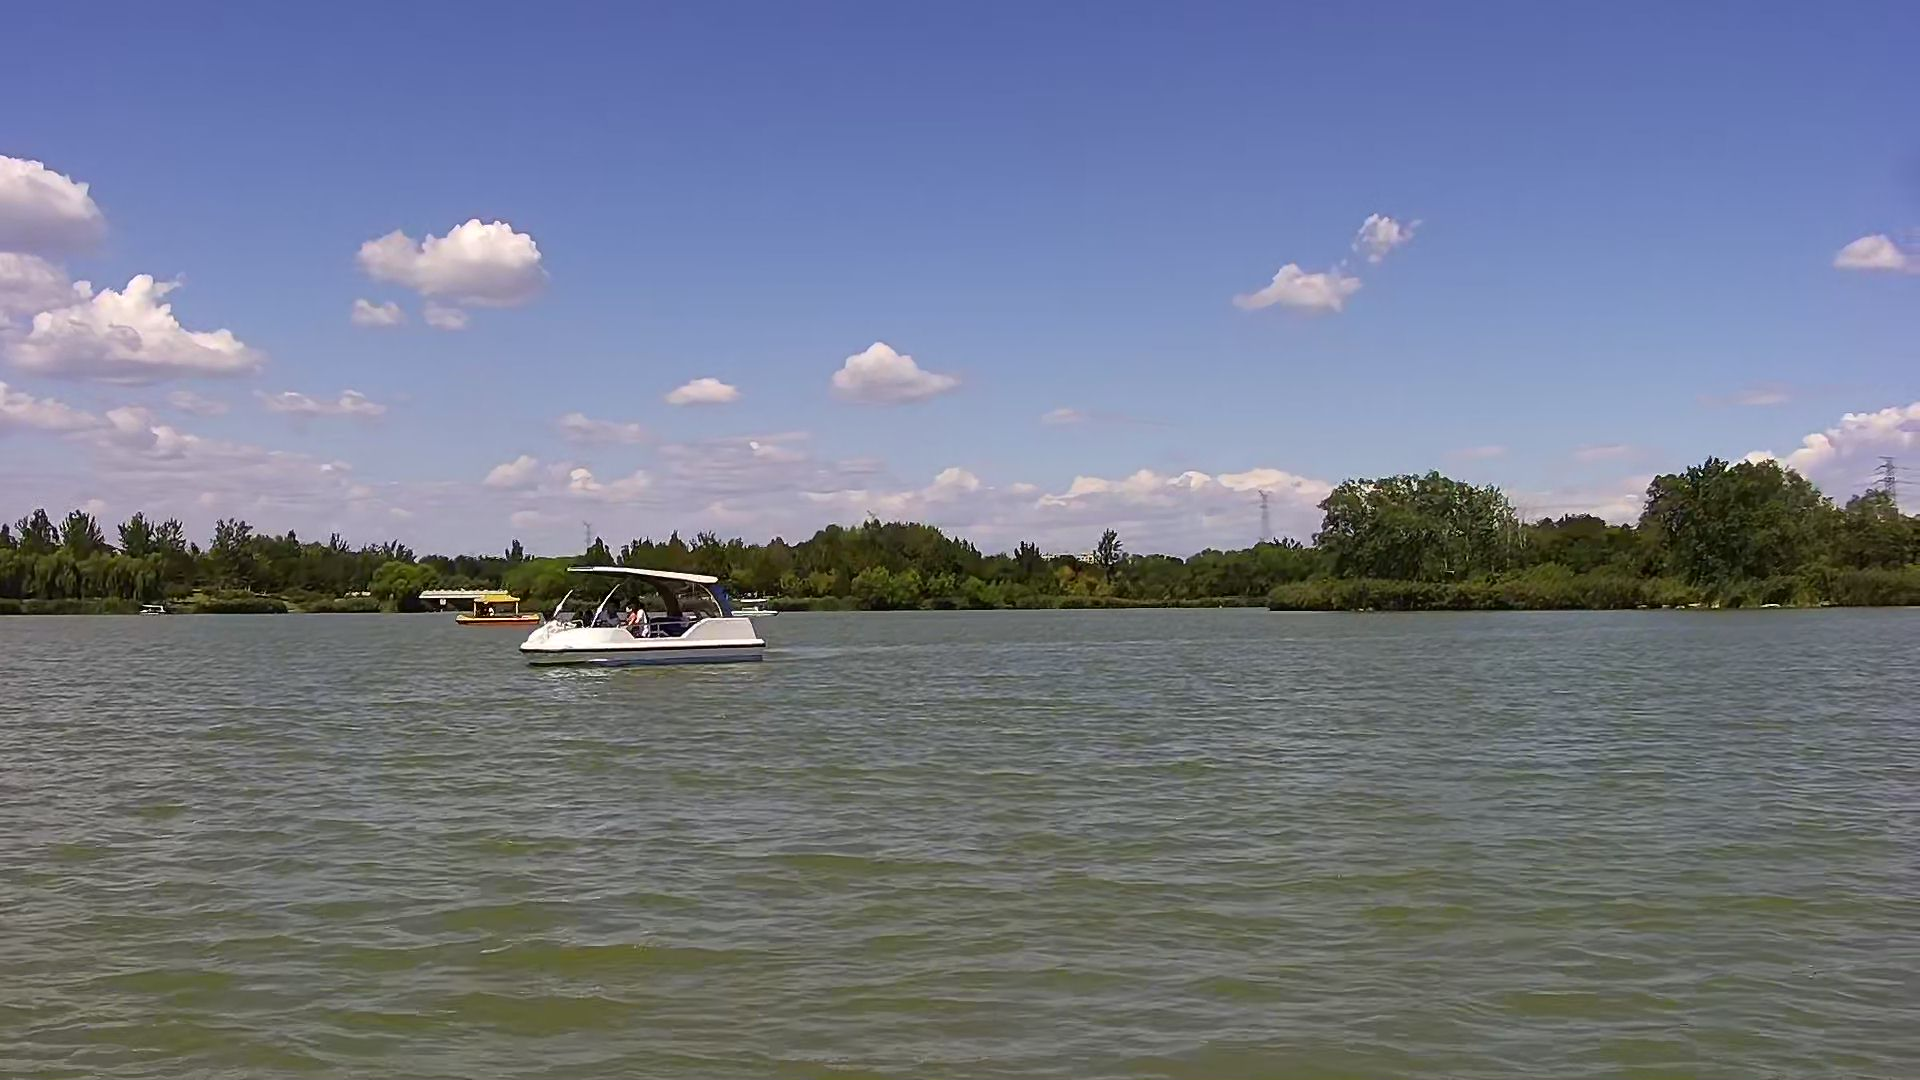boat: (518, 560, 764, 671), (459, 597, 535, 626)
bridge: (419, 589, 514, 617)
